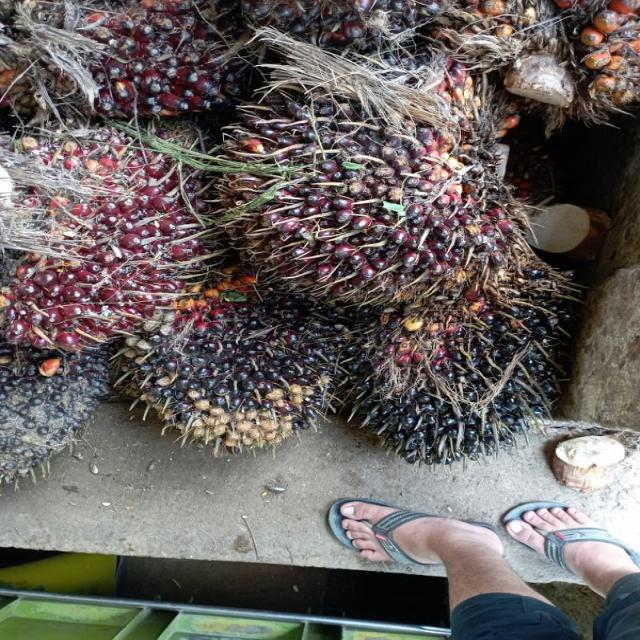fraksi 00: (318, 295, 560, 461), (139, 275, 343, 458)
fraksi 1: (218, 71, 550, 308), (5, 118, 224, 352)
